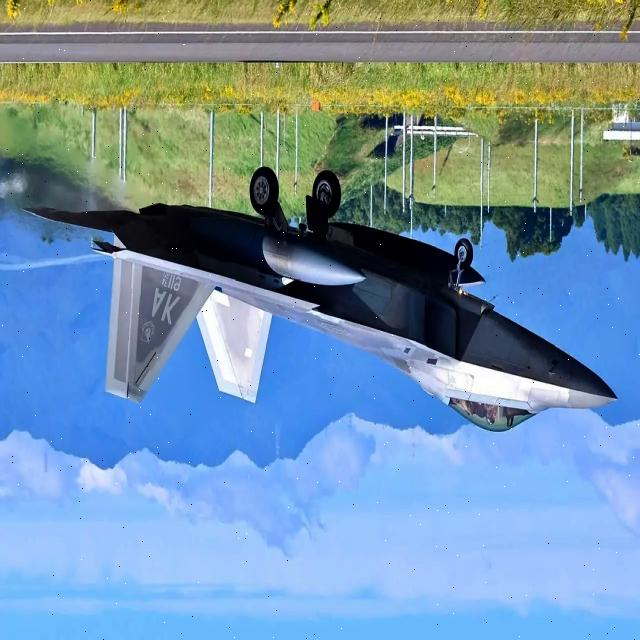F22: (11, 130, 622, 446)
